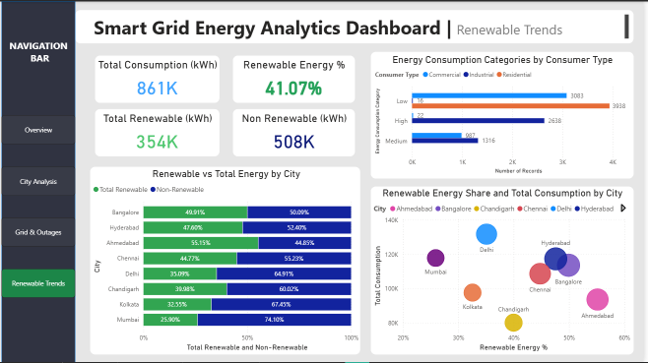

What the dashboard file says about the page in this screenshot:
{"tool":"powerbi","page":{"name":"Renewable Trends","canvas":[1280,720],"ordinal":3},"visuals":[{"type":"shape","box":[0,0,147.1,720.6],"z":0},{"type":"textbox","box":[147.7,17.2,1112.6,66.5],"z":1000},{"type":"pageNavigator","box":[0,226.9,147.1,364.1],"z":2000},{"type":"card","title":"Total Consumption (kWh)","fields":{"Values":["Measures_.Total Consumption"]},"box":[186.5,108,247.9,94.5],"z":3000},{"type":"card","title":"Renewable Energy %","fields":{"Values":["Measures_.Renewable %"]},"box":[461.4,108,242.9,94.5],"z":4000},{"type":"card","title":"Total Renewable (kWh)","fields":{"Values":["Measures_.Total Renewable"]},"box":[186.5,214.7,247.9,94.5],"z":5000},{"type":"scatterChart","title":"Renewable Energy Share and Total Consumption by City","fields":{"X":["Measures_.Renewable %"],"Y":["Measures_.Total Consumption"],"Category":["smart_grid_energy_dataset.City"],"Series":["smart_grid_energy_dataset.City"],"Size":["Measures_.Total Renewable"]},"box":[736.2,369.3,523.9,335],"z":6000},{"type":"hundredPercentStackedBarChart","title":"Renewable vs Total Energy by City","fields":{"Category":["smart_grid_energy_dataset.City"],"Y":["Measures_.Total Renewable","Measures_.Non-Renewable"]},"box":[176.7,330.1,538.7,374.2],"z":7000},{"type":"textbox","box":[0,70.2,147.7,76.3],"z":8000},{"type":"clusteredBarChart","title":"Energy Consumption Categories by Consumer Type","fields":{"Category":["smart_grid_energy_dataset.Energy Consumption Category"],"Y":["Measures_.Row Count"],"Series":["smart_grid_energy_dataset.Consumer Type"]},"box":[736.2,100.6,523.9,252.8],"z":9000},{"type":"card","title":"Non Renewable (kWh)","fields":{"Values":["Measures_.Non-Renewable"]},"box":[461.4,214.7,242.9,94.5],"z":13000}]}

Visuals, with their boxes on the page's 1280x720 design canvas (x1, y1, x2, y2). These are canvas units, not pixel positions in the 648x363 screenshot, which may show the page scaled, cropped or inside an application window:
shape: [0, 0, 147, 721]
textbox: [148, 17, 1260, 84]
pageNavigator: [0, 227, 147, 591]
"Total Consumption (kWh)" card: [186, 108, 434, 202]
"Renewable Energy %" card: [461, 108, 704, 202]
"Total Renewable (kWh)" card: [186, 215, 434, 309]
"Renewable Energy Share and Total Consumption by City" scatterChart: [736, 369, 1260, 704]
"Renewable vs Total Energy by City" hundredPercentStackedBarChart: [177, 330, 715, 704]
textbox: [0, 70, 148, 146]
"Energy Consumption Categories by Consumer Type" clusteredBarChart: [736, 101, 1260, 353]
"Non Renewable (kWh)" card: [461, 215, 704, 309]
